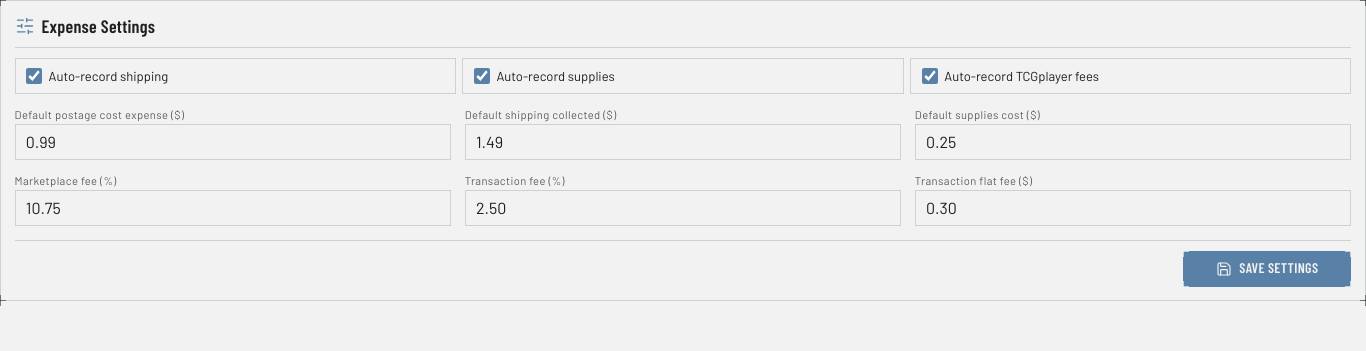
ExpenseSettingsCard › shows error when save fails
The image size is (1366, 351).
Click the button "Save Settings": (1267, 269) [1183,251,1351,287]
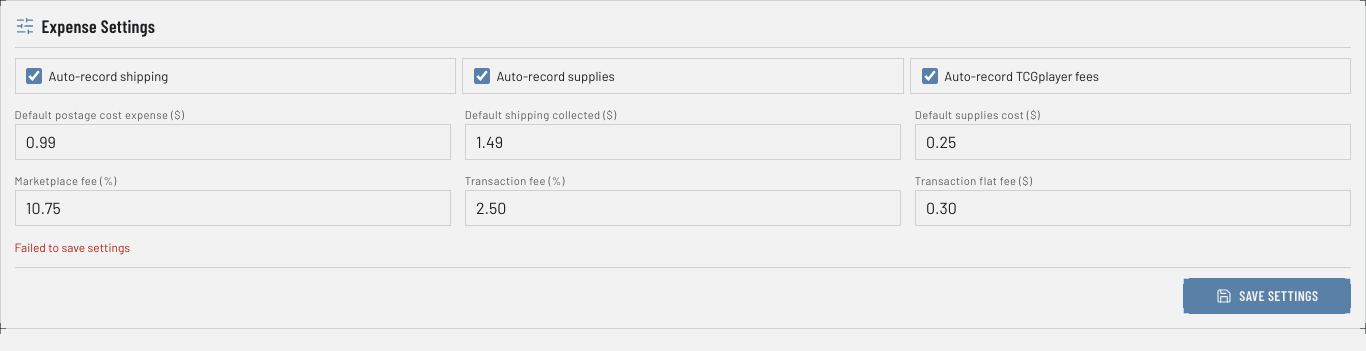
Now the message reads "Failed to save settings", box [15,240,130,254]
